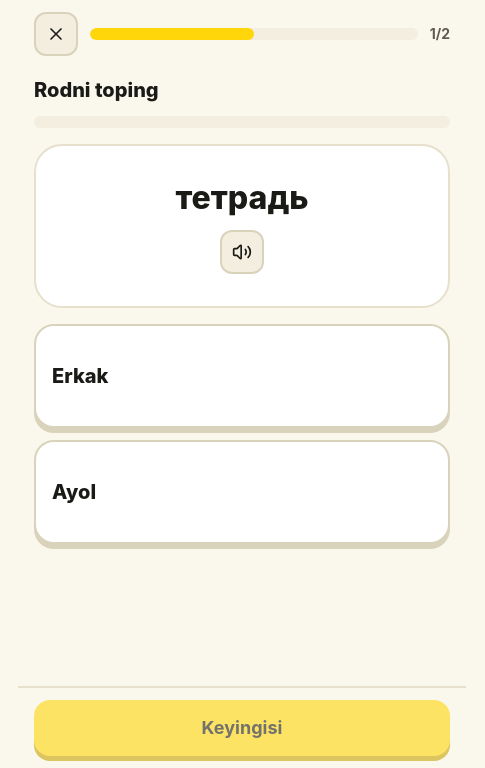
Test: LessonPlayer › exercise: Next unlocks only when the component reports done
Expected: the heading "Rodni toping" is shown, [34, 78, 159, 102]
Expected: the button "Keyingisi" is disabled, [34, 700, 450, 756]
Click the button "Ayol": {"x": 74, "y": 492} [34, 440, 450, 544]
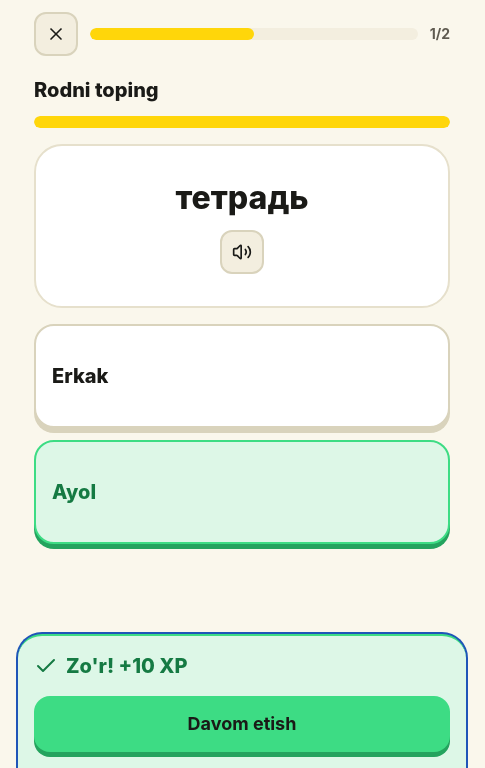
Click the button "Davom etish": {"x": 242, "y": 724} [34, 696, 450, 752]
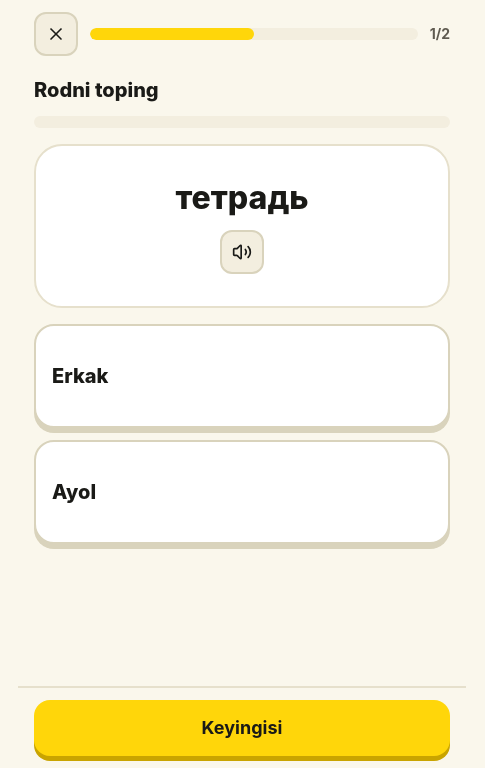
Expected: the button "Keyingisi" is enabled, [34, 700, 450, 756]
